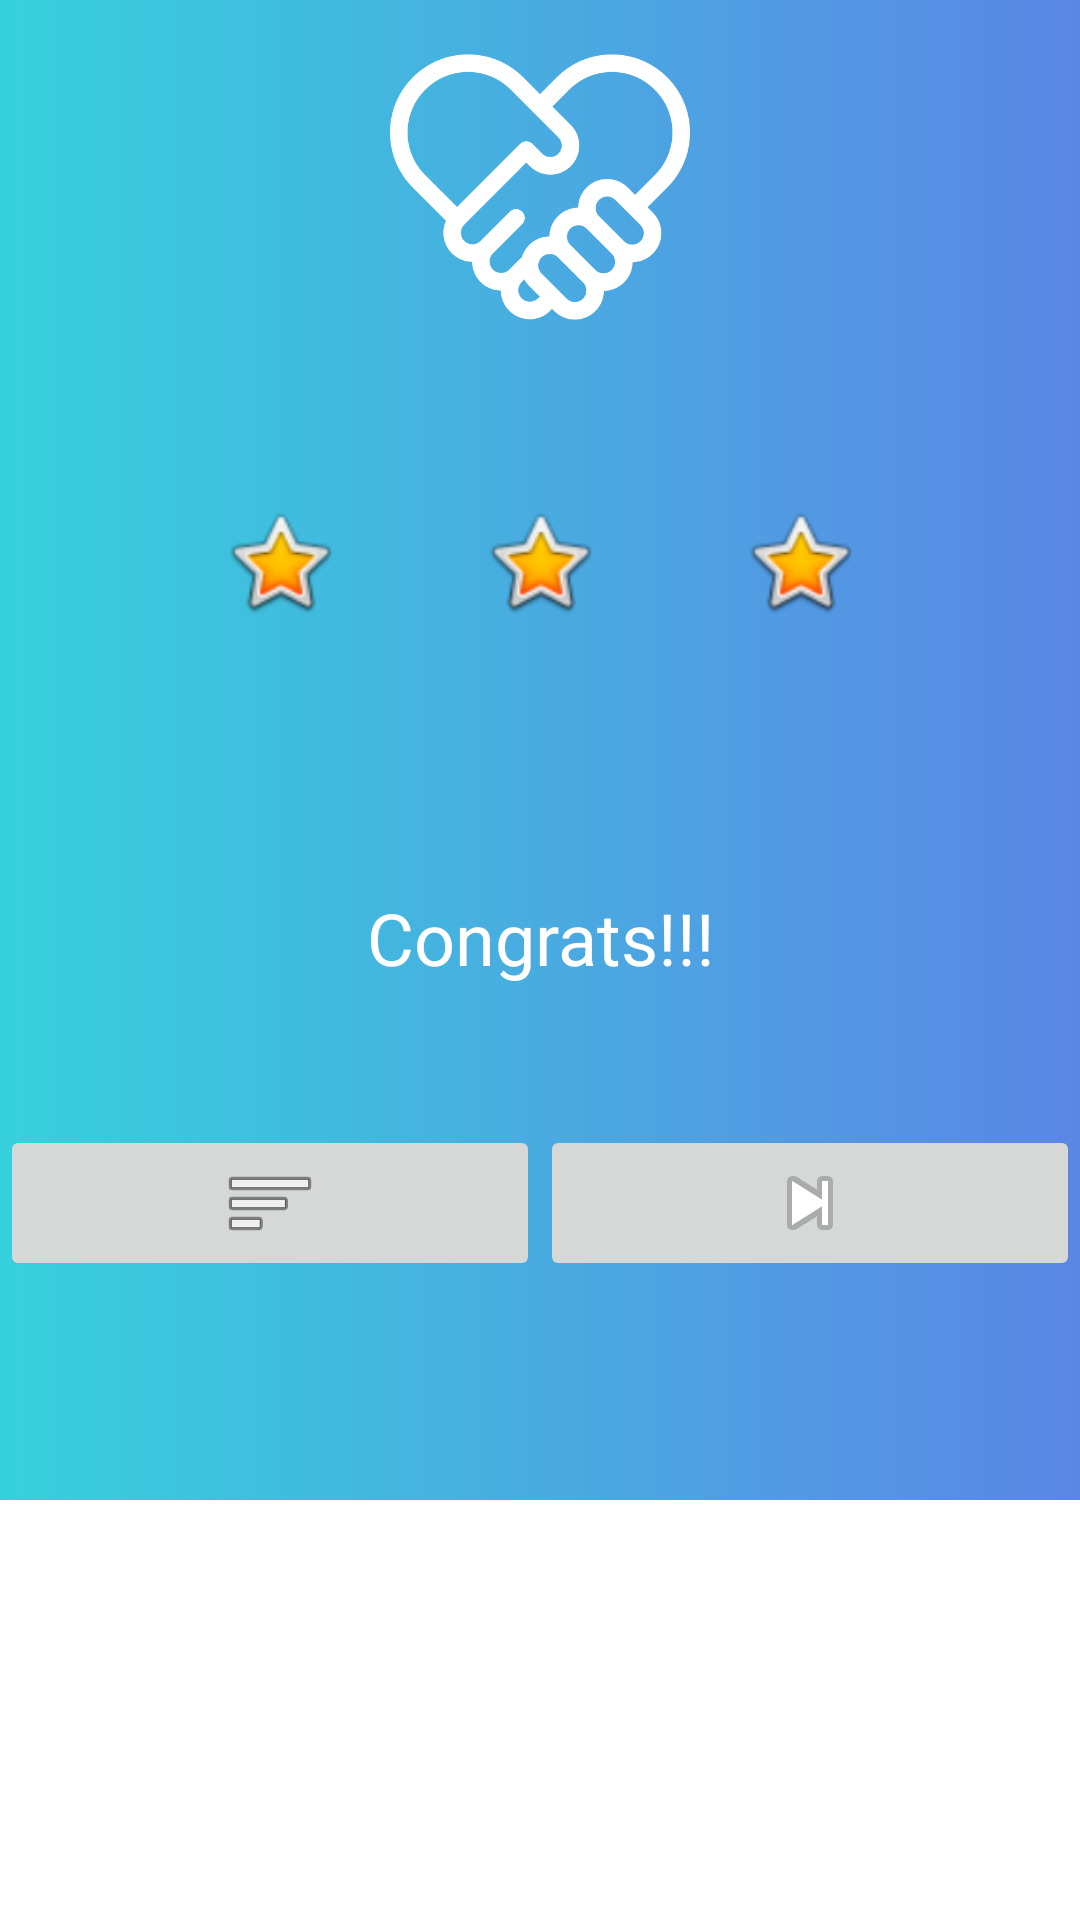

Locate icon controls on the screen. Image size 1080w x 1920h, boxes as (x1, y1, x2, y2).
star on: (231, 514, 331, 612), (491, 514, 591, 612), (751, 514, 851, 612)
